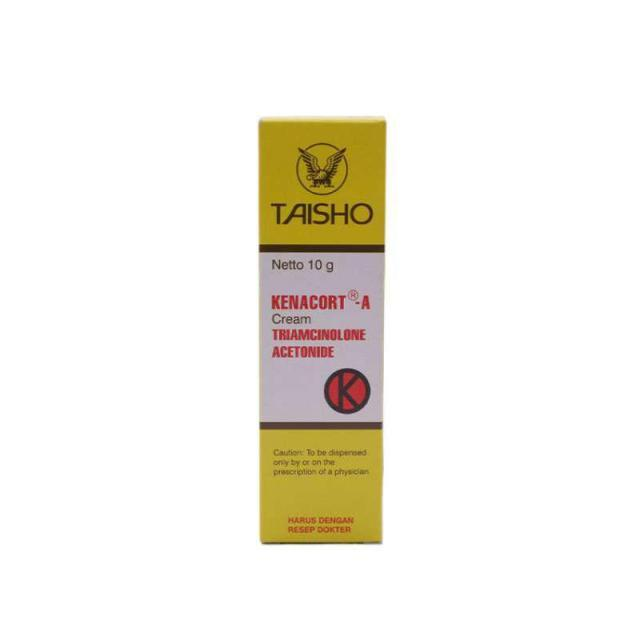drug-name: (264, 289, 372, 313)
